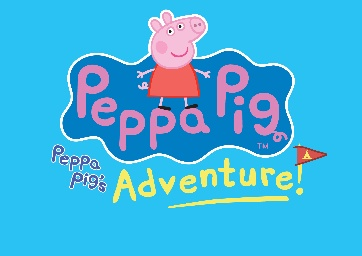Peppa: (135, 8, 211, 109)
